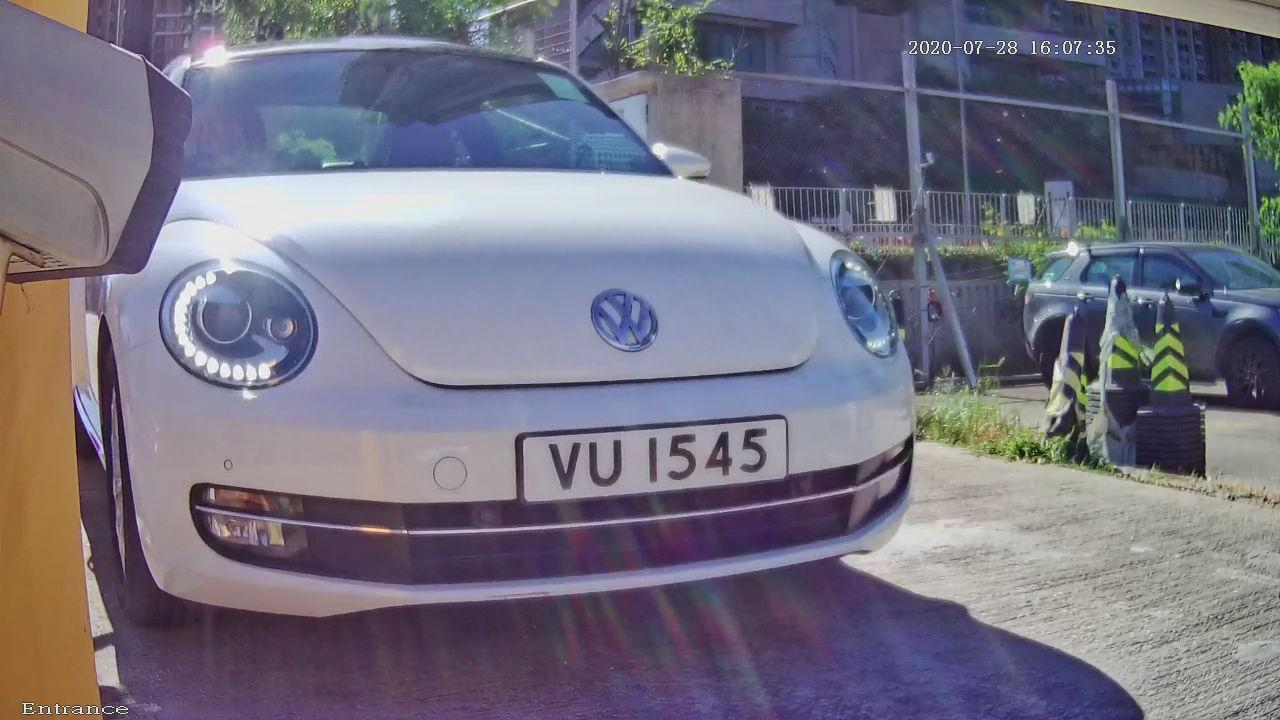privatecar: (29, 17, 1035, 669)
